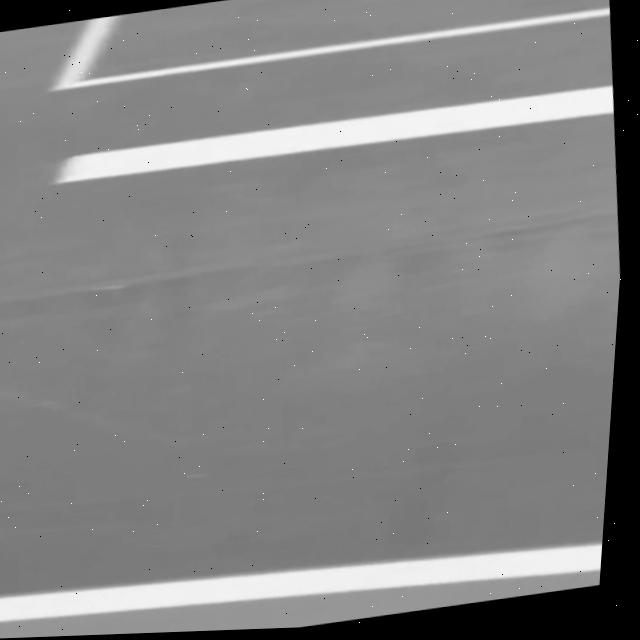left: (54, 86, 613, 183), (0, 544, 602, 623)
